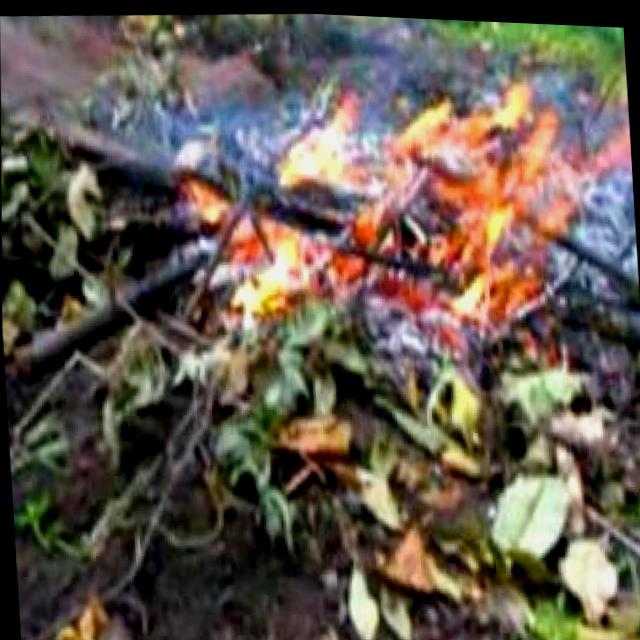Fire: (213, 65, 583, 308)
